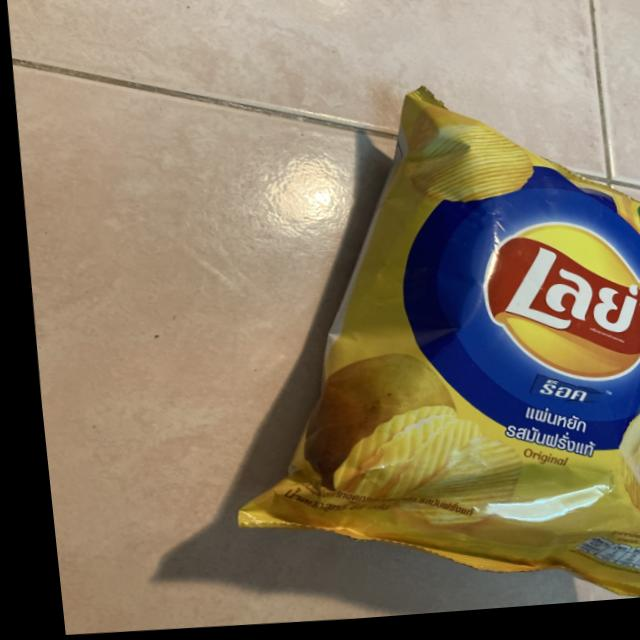LayYellow: (201, 76, 640, 629)
